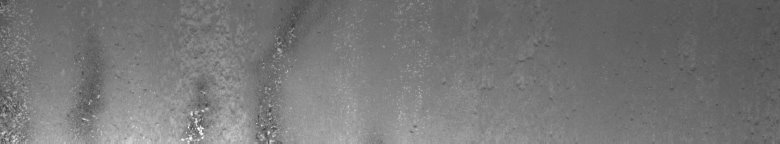hc: (186, 28, 294, 136)
